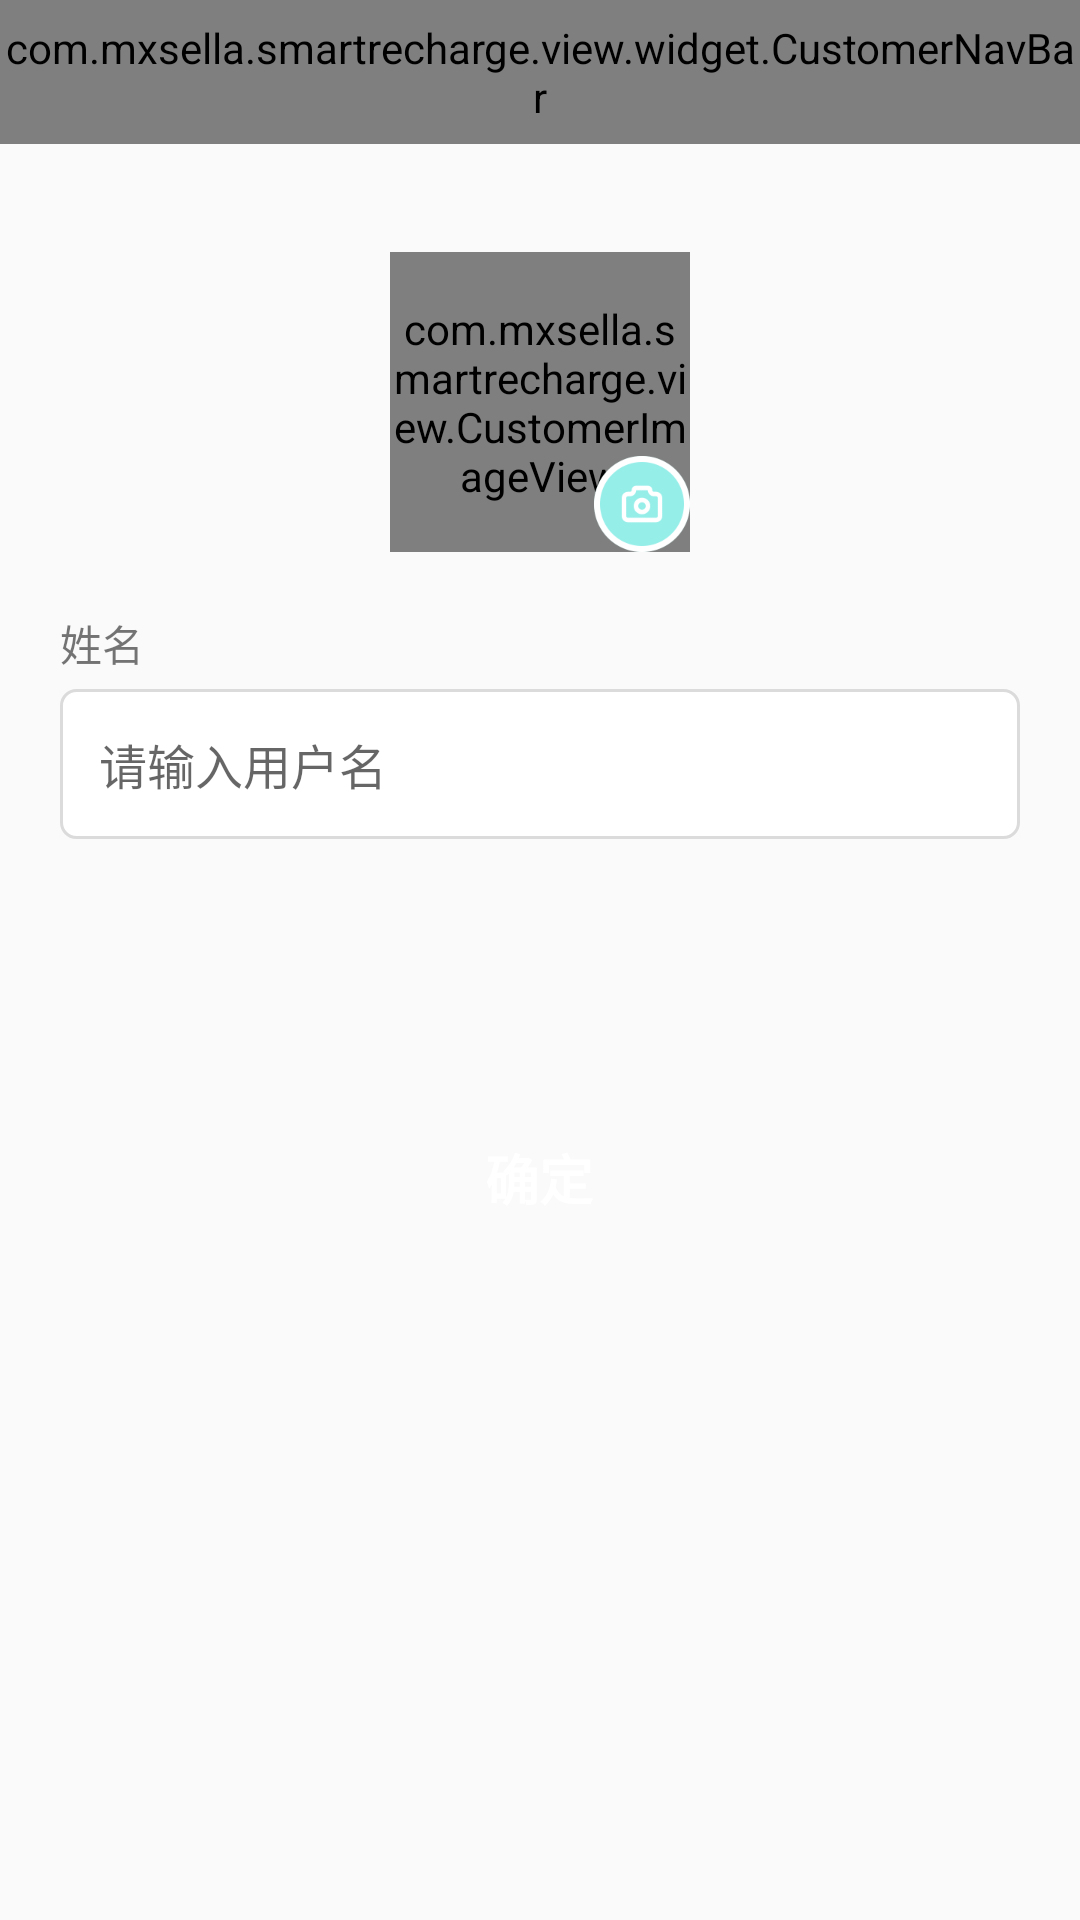

Named icons in this screenshot (1080*1920) and their centers, (x=x, y=y):
photo: (x=642, y=504)
